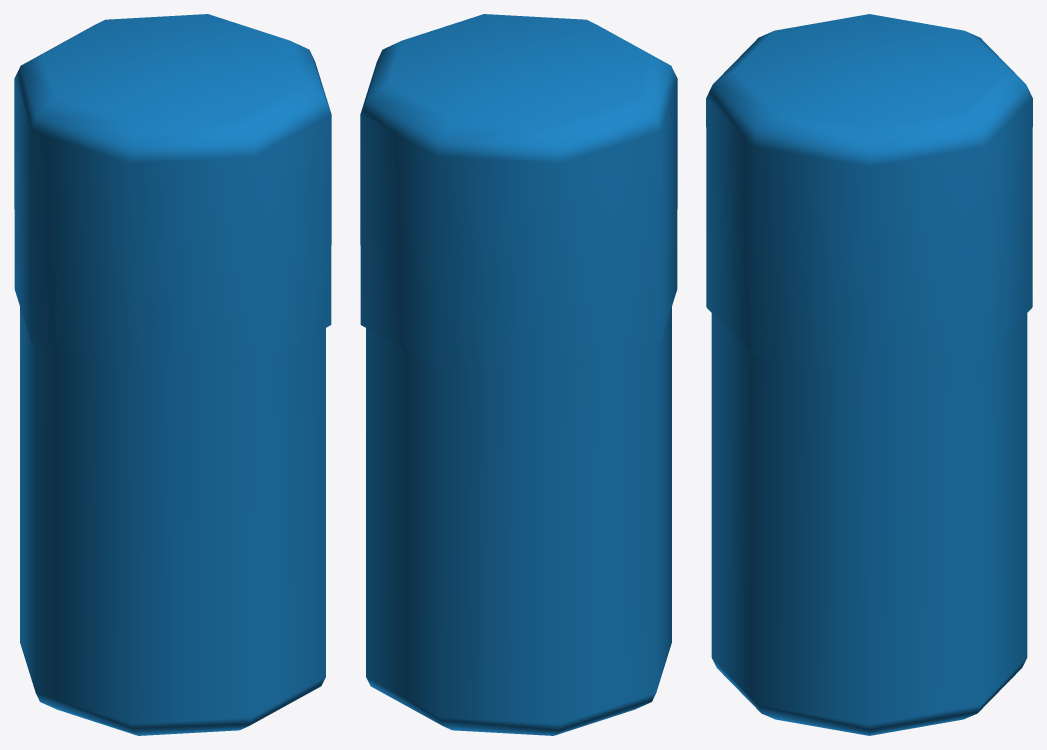
File: deodorant.fbx
3 renders of one model, left to right at view 1: azimuth 30°, elevation 25°; view 2: azimuth 150°, elevation 25°; view 3: azimuth 270°, elevation 25°, orthographic.
Parts seen in each view (by area): view 1: deodorant; view 2: deodorant; view 3: deodorant.
Boxes of the visible parts, box(x1,y1,x2,y2) form: deodorant: box(14, 14, 331, 735); deodorant: box(360, 14, 677, 735); deodorant: box(706, 14, 1032, 735).
Bounding box in the file's own units: 5.25 × 10.81 × 5.25.
